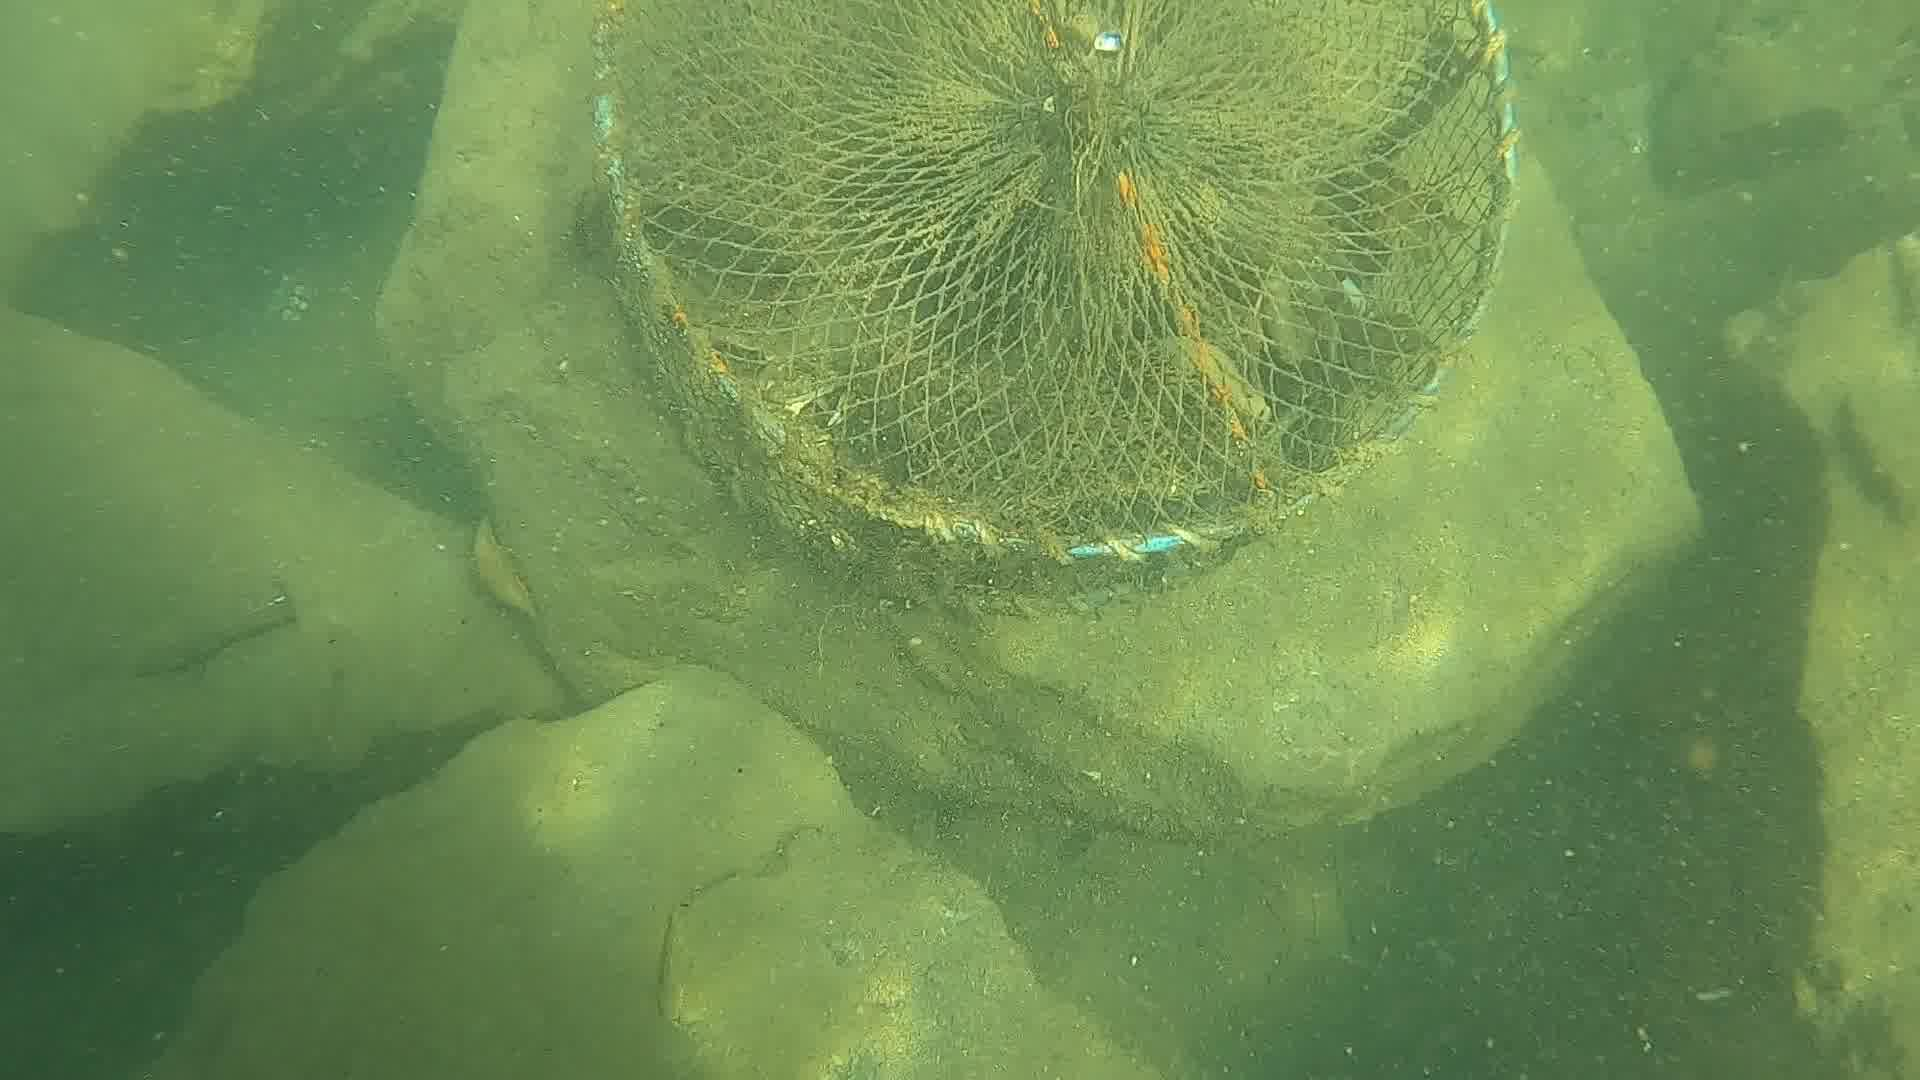circular fish trap: (591, 0, 1514, 607)
